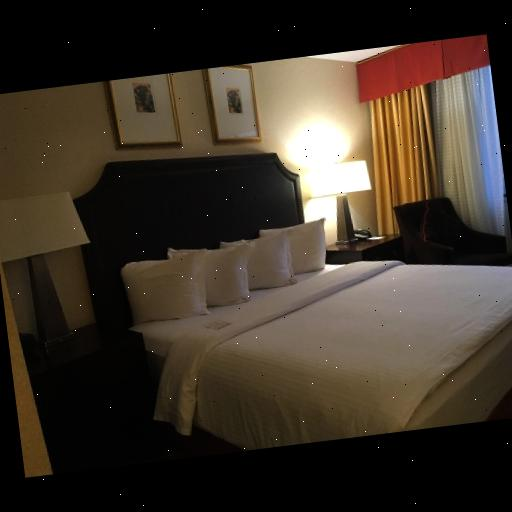clean_bed: (75, 150, 512, 461)
lamp: (0, 179, 110, 352), (304, 158, 378, 247)
organised_pillow: (112, 210, 338, 332)
